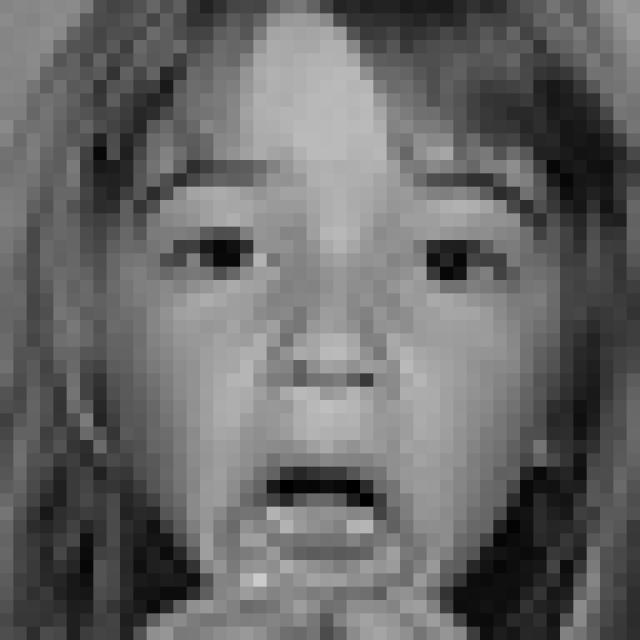fear: (128, 150, 546, 604)
